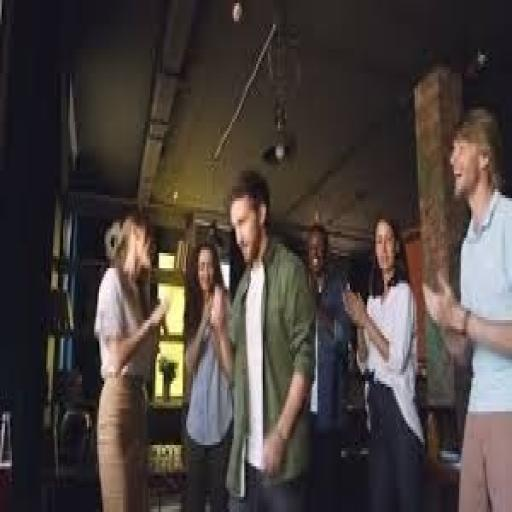clapping: (420, 104, 510, 509), (340, 213, 426, 509), (92, 204, 171, 509), (181, 238, 235, 509)
